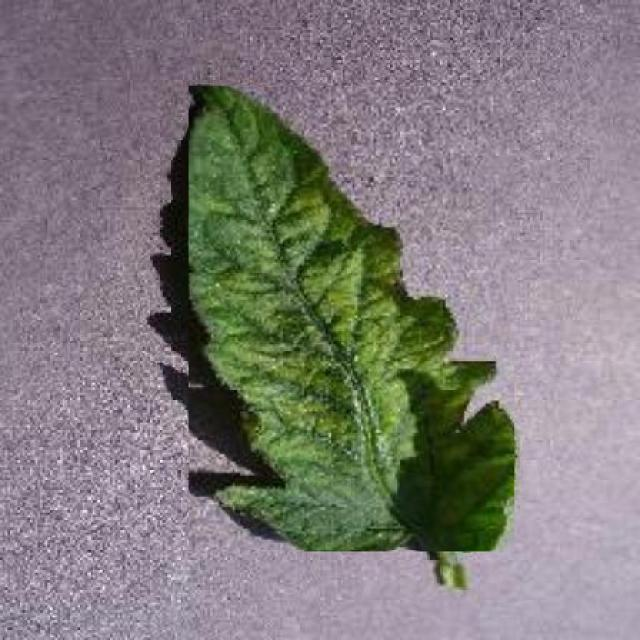Mosaic Virus: (188, 85, 515, 552)
